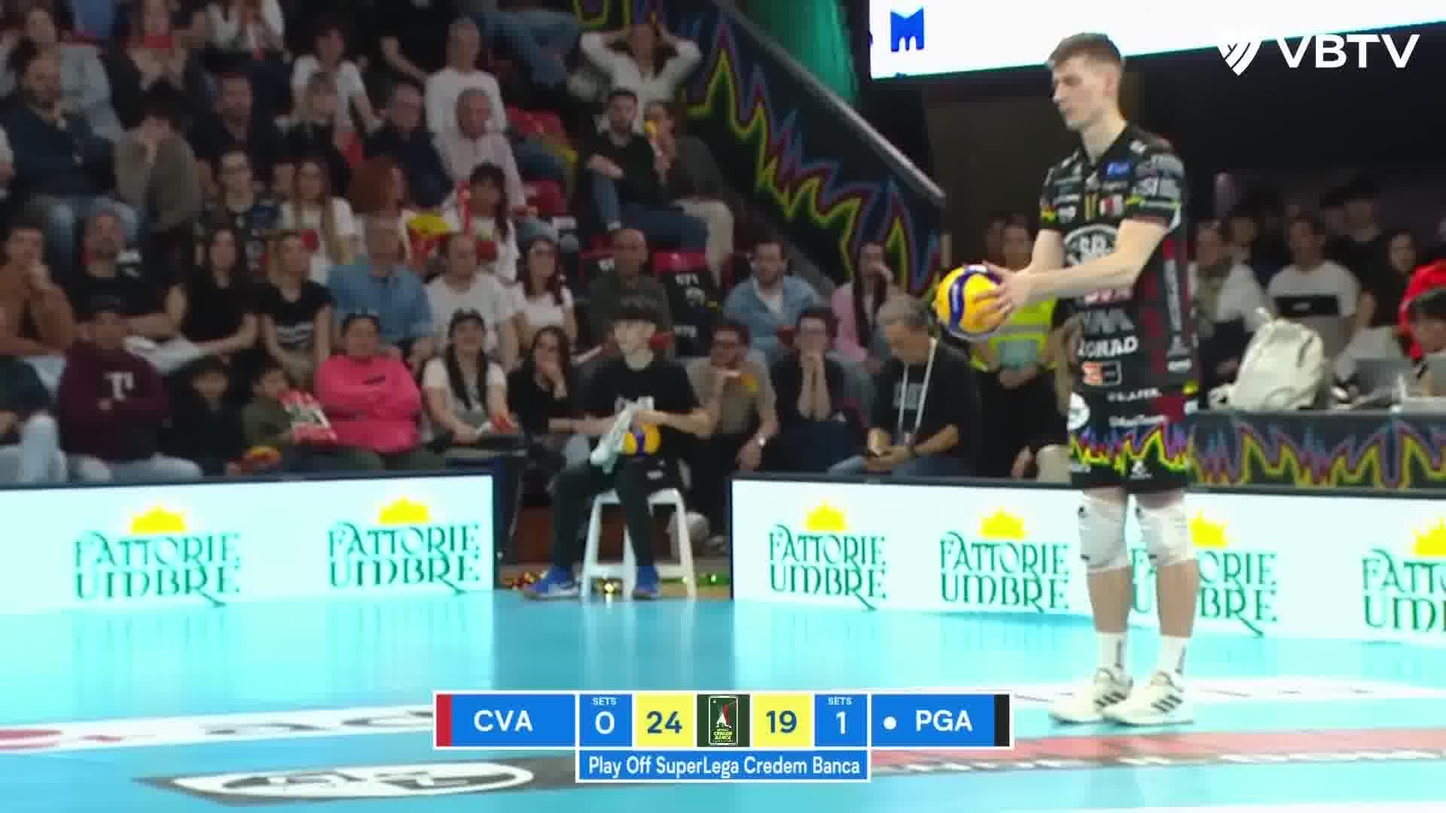balls: (929, 257, 1013, 346)
